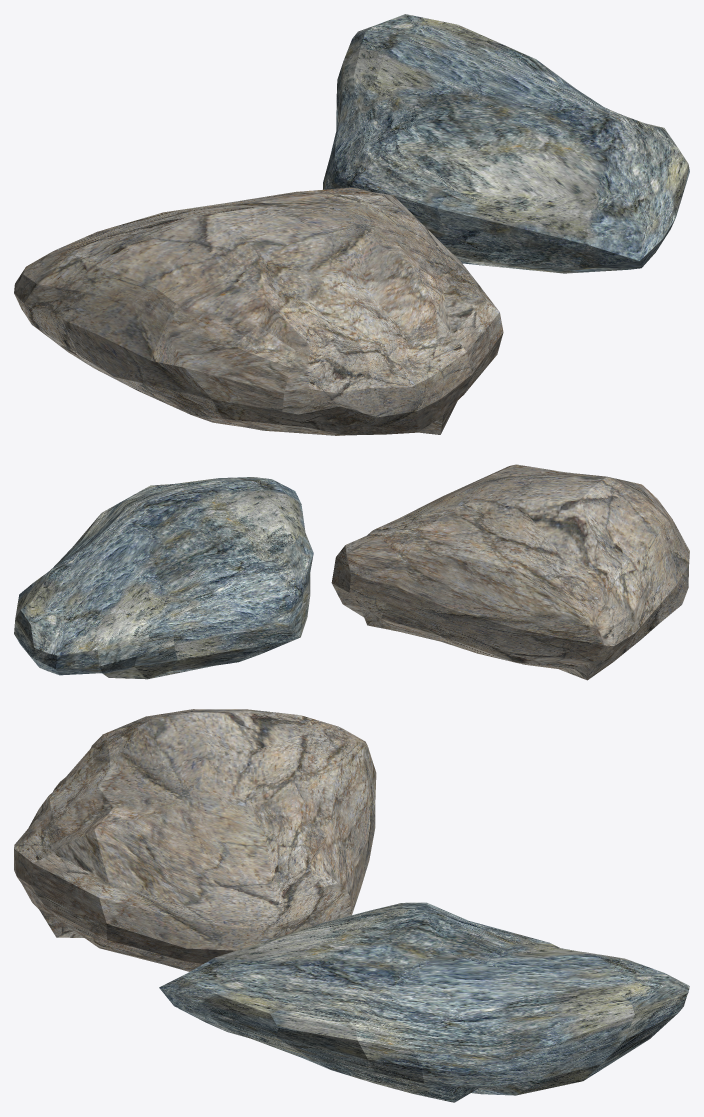
File: rocha.fbx
3 renders of one model, top to bottom at view 1: azimuth 30°, elevation 25°; view 2: azimuth 150°, elevation 25°; view 3: azimuth 270°, elevation 25°, orthographic. The views are drawn at different scales.
Parts seen in each view (by area): view 1: Rock_Stone, FlatRocks007_Rock_Stone; view 2: Rock_Stone, FlatRocks007_Rock_Stone; view 3: Rock_Stone, FlatRocks007_Rock_Stone.
Part boxes in pixels (x1,y1,x2,y2): Rock_Stone: (14, 187, 503, 435); FlatRocks007_Rock_Stone: (323, 14, 689, 273); Rock_Stone: (331, 464, 689, 680); FlatRocks007_Rock_Stone: (14, 477, 313, 679); Rock_Stone: (14, 709, 376, 971); FlatRocks007_Rock_Stone: (159, 902, 689, 1102).
Size of the model in its own units: 36.91 by 10.32 by 36.05.
